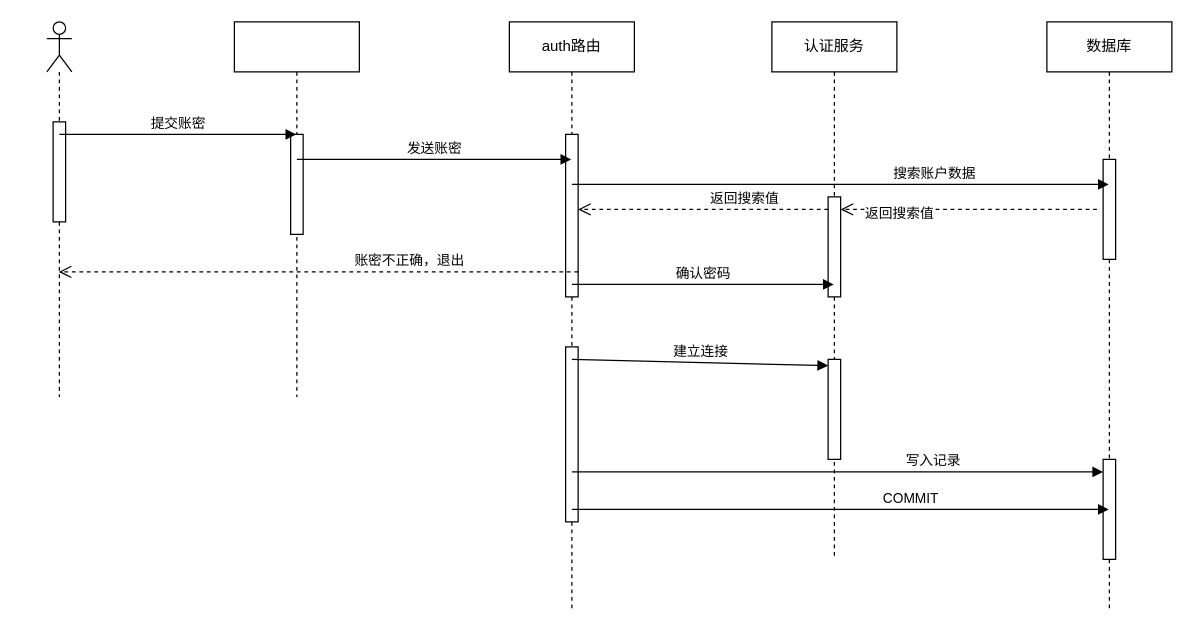
This 1194x631 diagram has some shape labels left out. Each missing label, with the centre of its shape:
用户: pixel 59 209
登录页面: pixel 296 209
